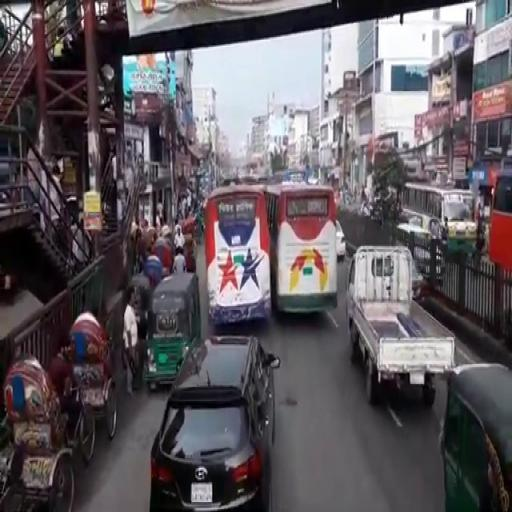bus: (204, 182, 273, 325), (266, 181, 339, 316), (400, 180, 479, 254), (488, 171, 512, 269)
car: (149, 330, 279, 512), (400, 222, 445, 279), (338, 224, 345, 257)
pickup: (347, 243, 458, 394)
rickshaw: (3, 354, 98, 512), (71, 310, 118, 441), (151, 234, 174, 267), (145, 251, 164, 283)
three wheelers (CNG): (440, 361, 512, 510), (144, 270, 203, 385)
